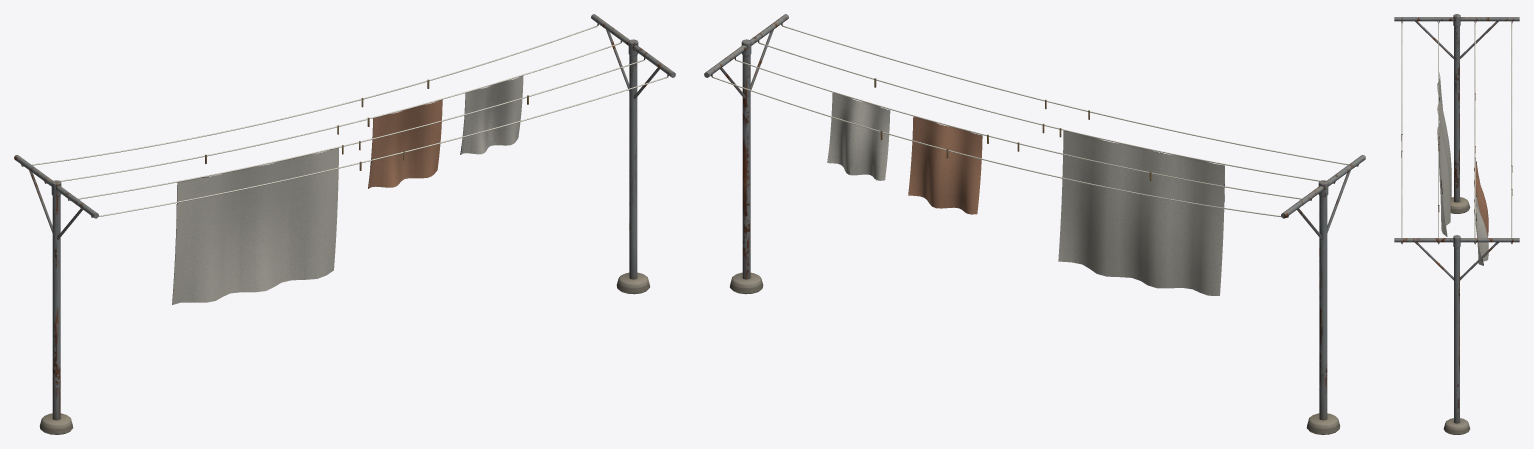
Rendered from clothesline.glb.
3 renders of one model, left to right at view 1: azimuth 30°, elevation 25°; view 2: azimuth 150°, elevation 25°; view 3: azimuth 270°, elevation 25°, orthographic. The views are drawn at different scales.
Visible parts, largest first — view 1: clothesline; view 2: clothesline; view 3: clothesline.
Part boxes in pixels (x1,y1,x2,y2): clothesline: (14, 14, 675, 434); clothesline: (704, 14, 1365, 434); clothesline: (1394, 14, 1519, 434).
Size of the model in its own units: 5.25 by 2.04 by 1.2.
2 materials, 2 textured.
